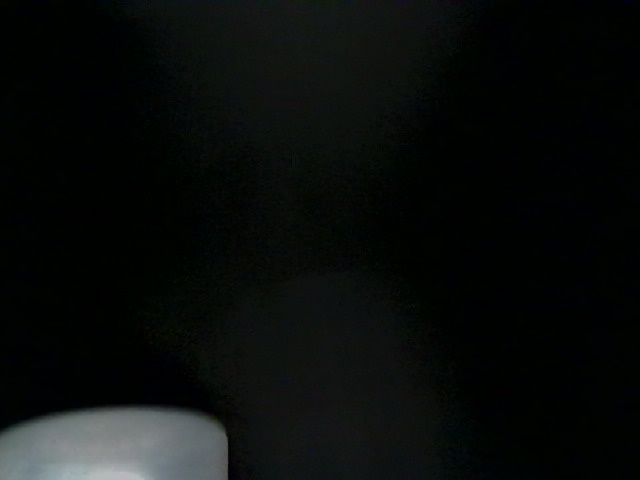CYLJ: (389, 281, 496, 388)
